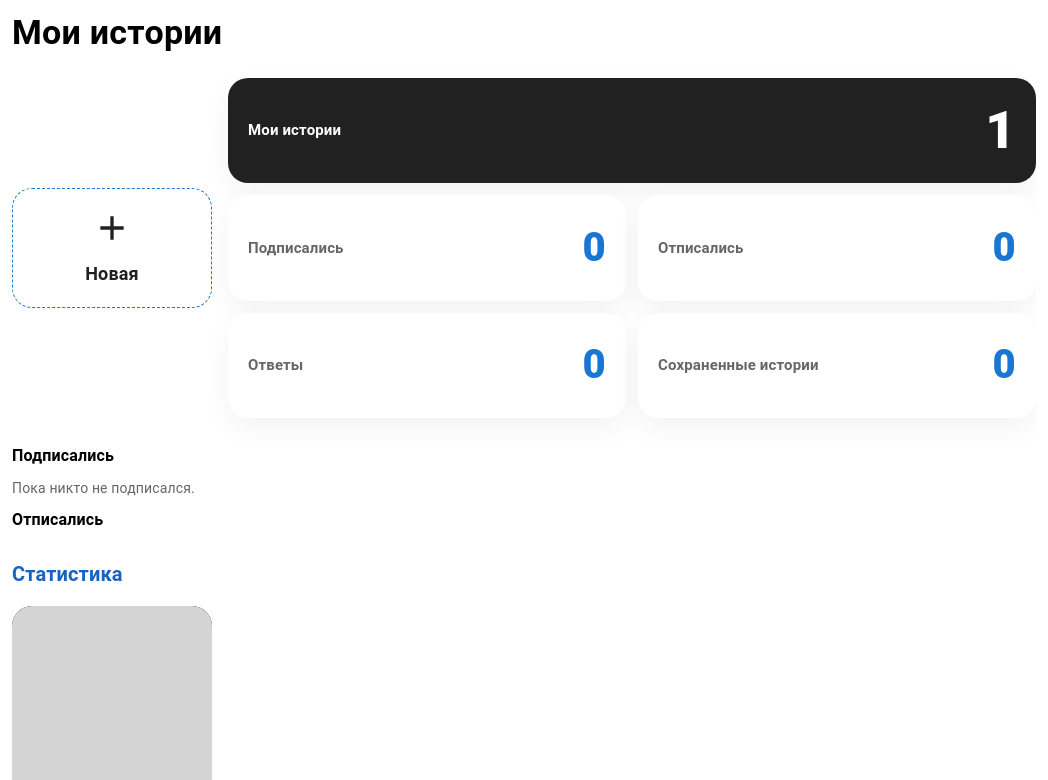
Test: StoryEditorSection › сначала показывает свои сторис, форма закрыта
Expected: the field labelled "Текст" is not shown
Click the button "Новая": (112, 248) [12,188,212,308]
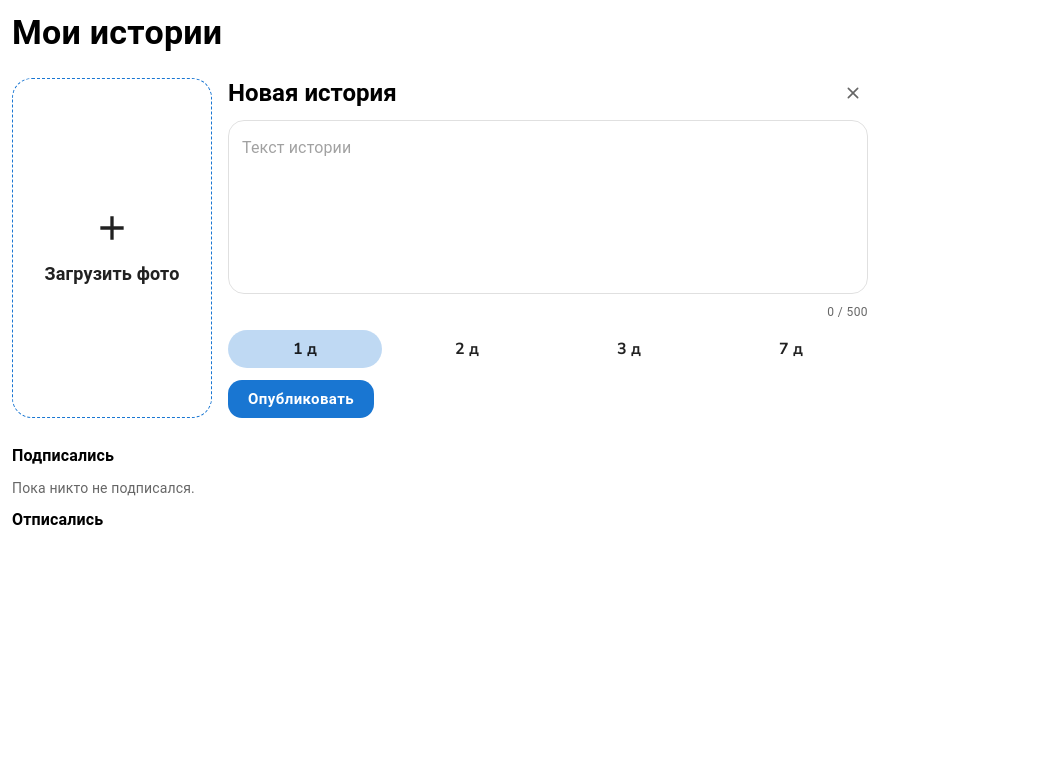
Expected: the text "Загрузить фото" is shown, [44,264,180,284]
Expected: the heading "Новая история" is shown, [228,79,397,107]
